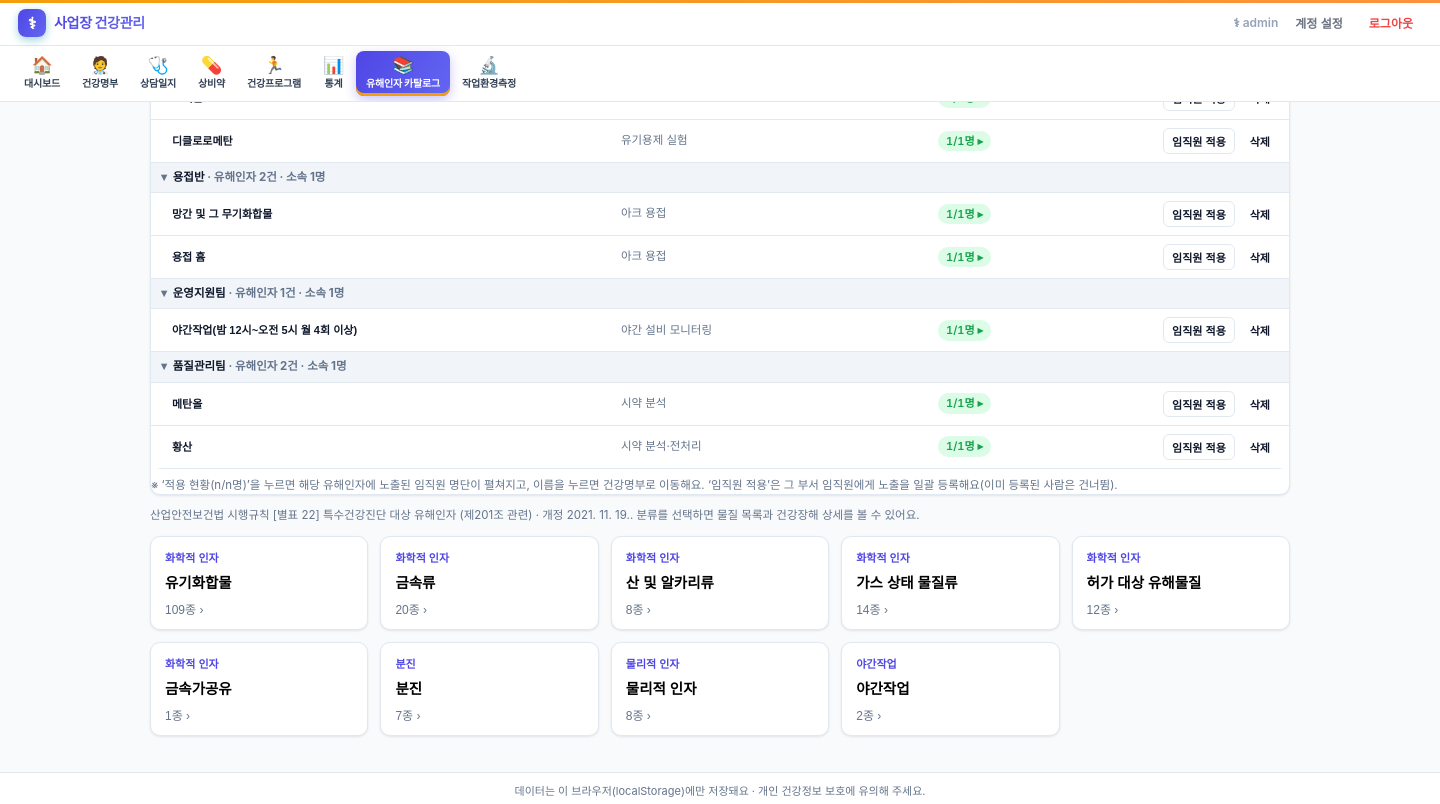
Test: App 스모크 › 유해인자 카탈로그 메뉴에서 분류를 클릭하면 물질 목록이 보인다
(page scrolled)
// 1단계: 분류 카드 → '유기화합물' 클릭
Click the text "유기화합물": (198, 582) [165,571,232,592]
(page scrolled)
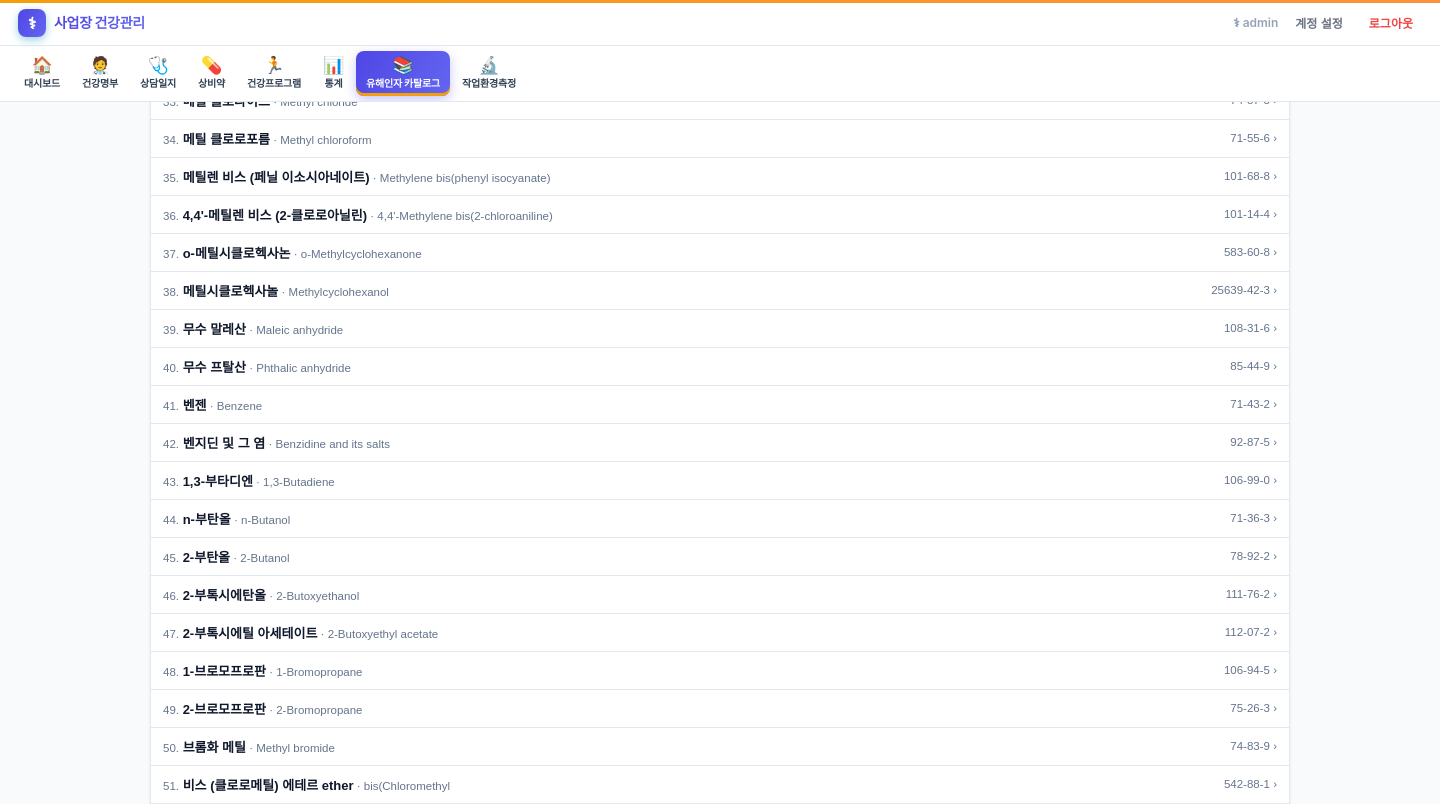
Expected: the text "벤젠" is shown, [183,398,206,412]
